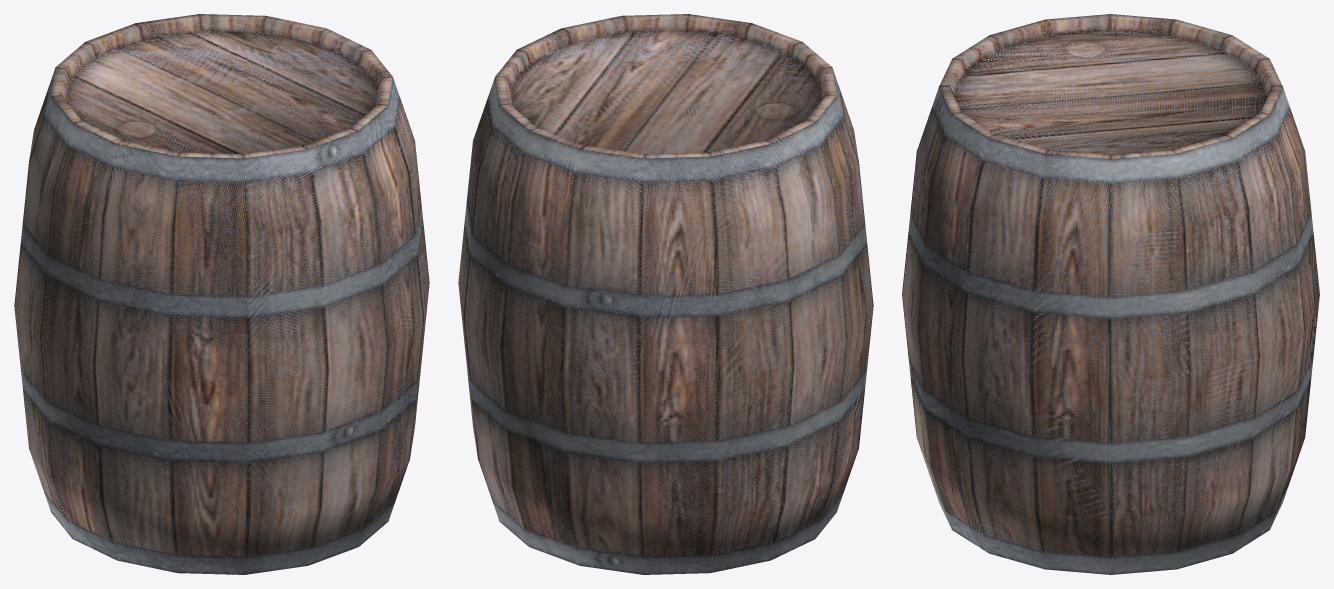
File: Barrel.dae
The picture shows the model from 3 angles, left to right: view 1: azimuth 30°, elevation 25°; view 2: azimuth 150°, elevation 25°; view 3: azimuth 270°, elevation 25°; orthographic projection.
Parts seen in each view (by area): view 1: SketchUp; view 2: SketchUp; view 3: SketchUp.
Part boxes in pixels (x1,y1,x2,y2): SketchUp: [14, 14, 429, 574]; SketchUp: [458, 14, 873, 574]; SketchUp: [902, 14, 1319, 574].
Bounding box in the file's own units: 28.7 × 28.7 × 31.5.
